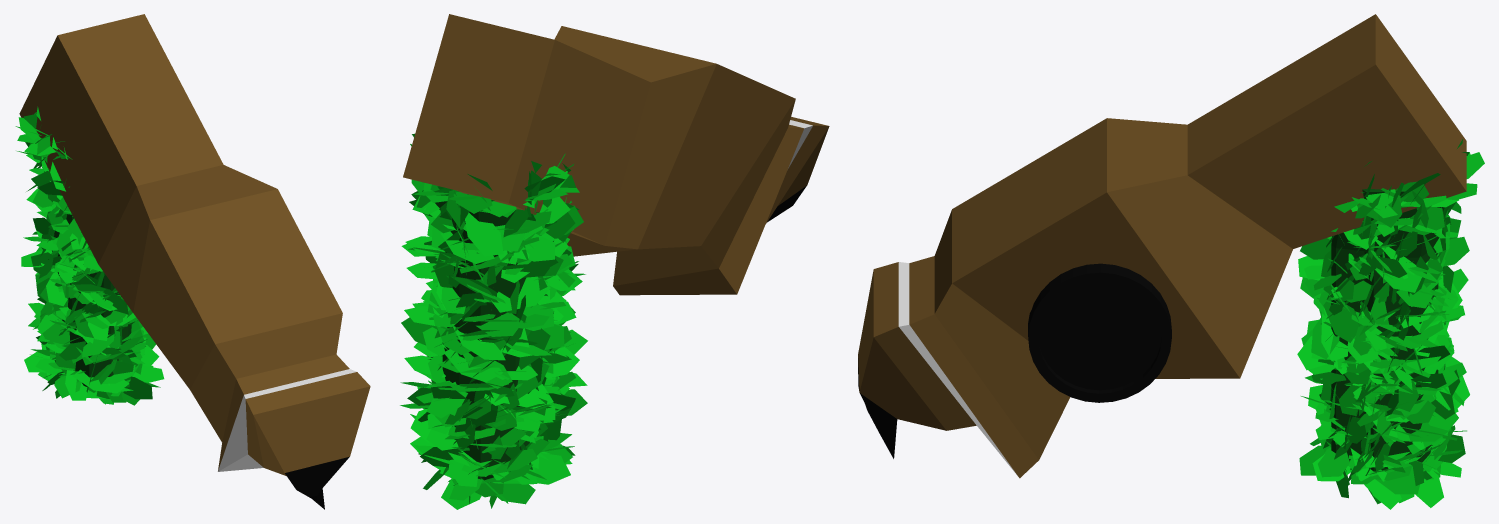
Rendered from clockFuture.fbx.
3 renders of one model, left to right at view 1: azimuth 30°, elevation 25°; view 2: azimuth 150°, elevation 25°; view 3: azimuth 270°, elevation 25°, orthographic. The views are drawn at different scales.
Visible parts, largest first — view 1: Cylinder, Cylinder|Plane|Dupli|344, Cylinder|Plane|Dupli|60, Cylinder|Plane|Dupli|311, Cylinder|Plane|Dupli|505; view 2: Cylinder, Cylinder|Plane|Dupli|484, Cylinder|Plane|Dupli|250, Cylinder|Plane|Dupli|418, Cylinder|Plane|Dupli|457, Cylinder|Plane|Dupli|270, Cylinder|Plane|Dupli|477, Cylinder|Plane|Dupli|282, Cylinder|Plane|Dupli|8, Cylinder|Plane|Dupli|20, Cylinder|Plane|Dupli|421, Cylinder|Plane|Dupli|192 (+6 smaller); view 3: Cylinder, Cylinder|Plane|Dupli|96.
Part boxes in pixels (x1,y1,x2,y2): Cylinder: [19, 14, 370, 509]; Cylinder|Plane|Dupli|344: [72, 369, 129, 393]; Cylinder|Plane|Dupli|60: [123, 377, 152, 399]; Cylinder|Plane|Dupli|311: [65, 370, 86, 400]; Cylinder|Plane|Dupli|505: [42, 323, 70, 344]; Cylinder: [403, 14, 829, 480]; Cylinder|Plane|Dupli|484: [465, 212, 503, 256]; Cylinder|Plane|Dupli|250: [491, 276, 550, 312]; Cylinder|Plane|Dupli|418: [511, 453, 570, 484]; Cylinder|Plane|Dupli|457: [443, 349, 502, 382]; Cylinder|Plane|Dupli|270: [476, 313, 523, 336]; Cylinder|Plane|Dupli|477: [453, 326, 505, 360]; Cylinder|Plane|Dupli|282: [491, 384, 553, 408]; Cylinder|Plane|Dupli|8: [523, 233, 555, 261]; Cylinder|Plane|Dupli|20: [441, 231, 494, 263]; Cylinder|Plane|Dupli|421: [495, 483, 535, 504]; Cylinder|Plane|Dupli|192: [426, 382, 467, 418]; Cylinder: [858, 14, 1466, 478]; Cylinder|Plane|Dupli|96: [1323, 296, 1359, 342].
Bounding box in the file's own units: 172 × 422 × 524.
